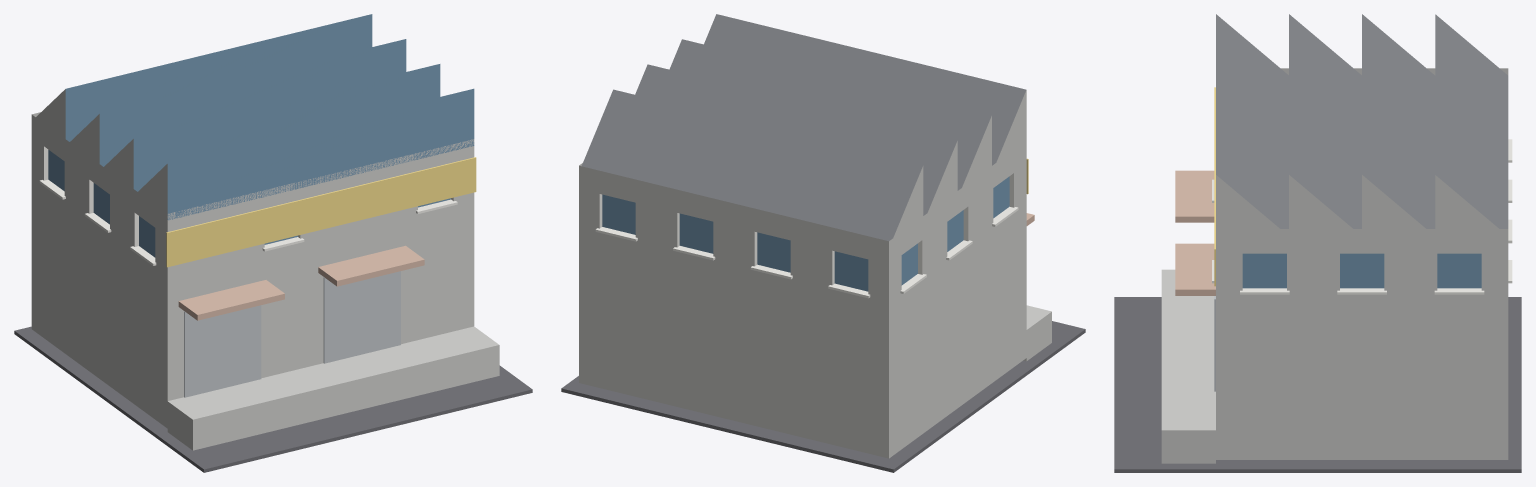
3 renders of one model, left to right at view 1: azimuth 30°, elevation 25°; view 2: azimuth 150°, elevation 25°; view 3: azimuth 270°, elevation 25°, orthographic. The views are drawn at different scales.
Parts seen in each view (by area): view 1: i_2_1_c; view 2: i_2_1_c; view 3: i_2_1_c.
Part boxes in pixels (x1,y1,x2,y2): i_2_1_c: [14, 14, 532, 472]; i_2_1_c: [561, 14, 1085, 472]; i_2_1_c: [1114, 14, 1521, 472].
Bounding box in the file's own units: 12 × 9.5 × 12.
